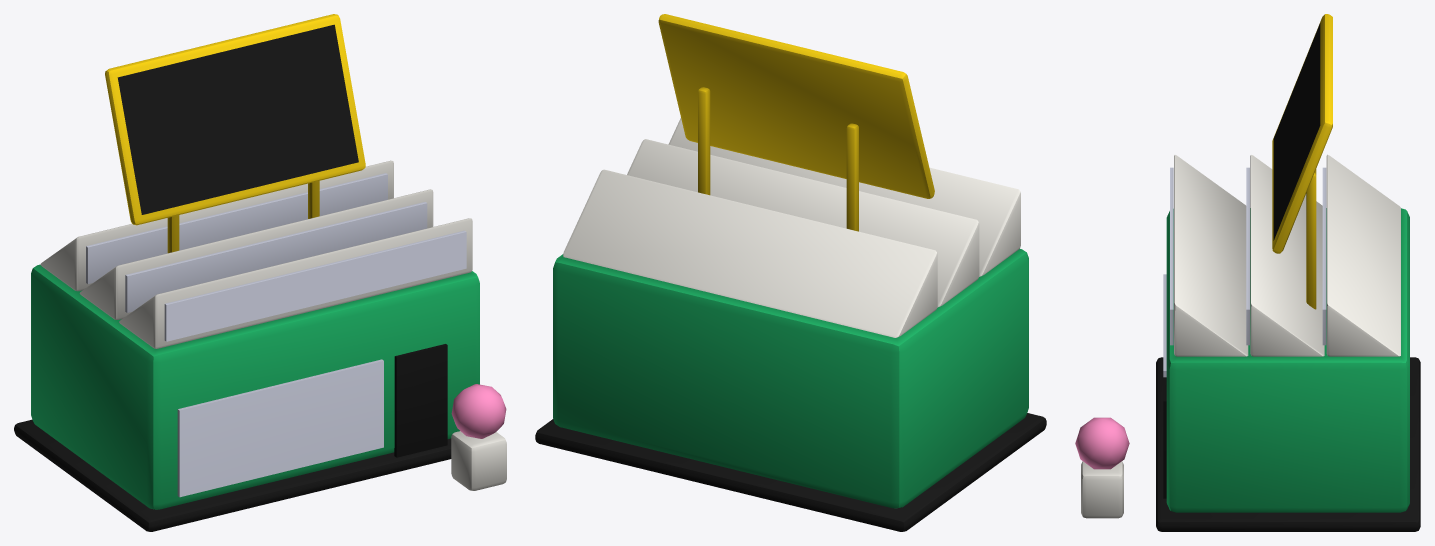
The model's file is curated-design.glb.
3 renders of one model, left to right at view 1: azimuth 30°, elevation 25°; view 2: azimuth 150°, elevation 25°; view 3: azimuth 270°, elevation 25°, orthographic. The views are drawn at different scales.
Parts seen in each view (by area): view 1: curated-design, screen; view 2: curated-design; view 3: curated-design, screen.
Part boxes in pixels (left/top/right/bottom): curated-design: left=14, top=14, right=506, bottom=531; screen: left=117, top=24, right=358, bottom=214; curated-design: left=535, top=14, right=1046, bottom=531; curated-design: left=1075, top=14, right=1420, bottom=531; screen: left=1273, top=23, right=1320, bottom=240.
Bounding box in the file's own units: 5.5 × 5.82 × 4.83.
